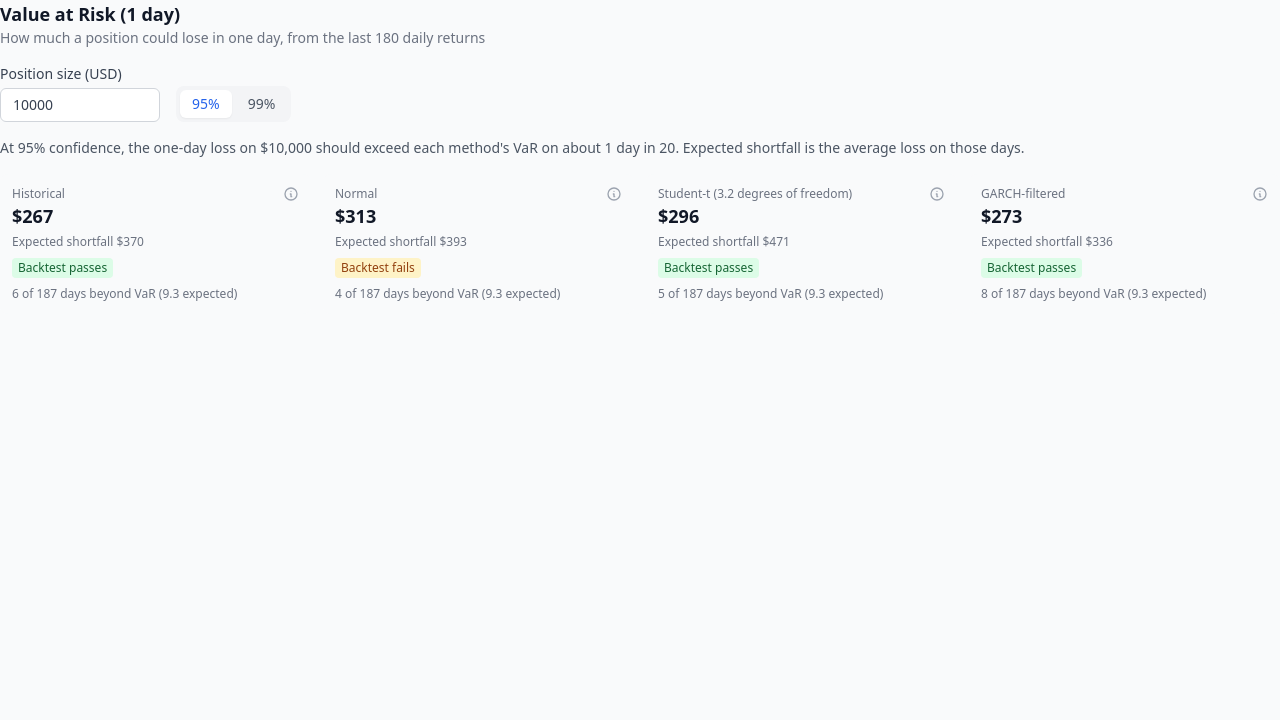
it: ValueAtRiskPanel › puts the backtest statistics in the method details
What coordinates should you click on to do the following:
click the button named "About Normal"
I would click on:
 (614, 194)
Its box is [606,186,622,202].
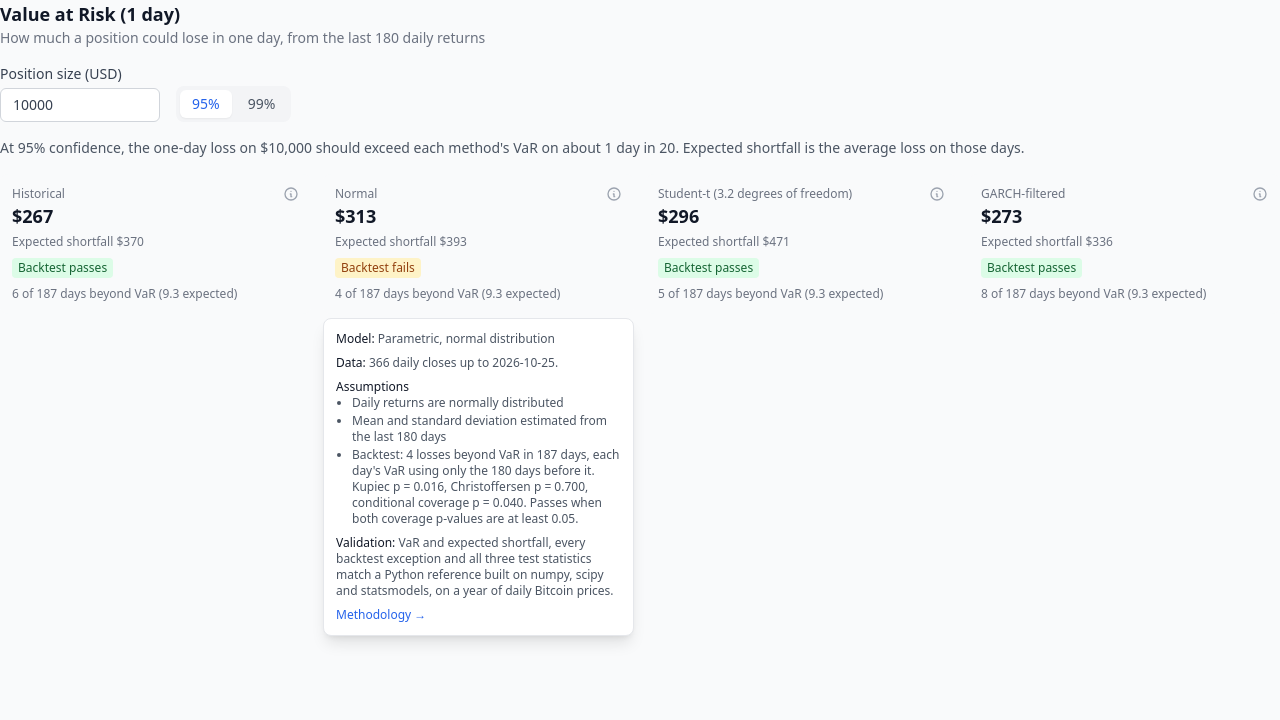
expect the dialog shows "Kupiec p = 0.016, Christoffersen p = 0.700, conditional coverage p = 0.040": met, box [352,446,620,527]
